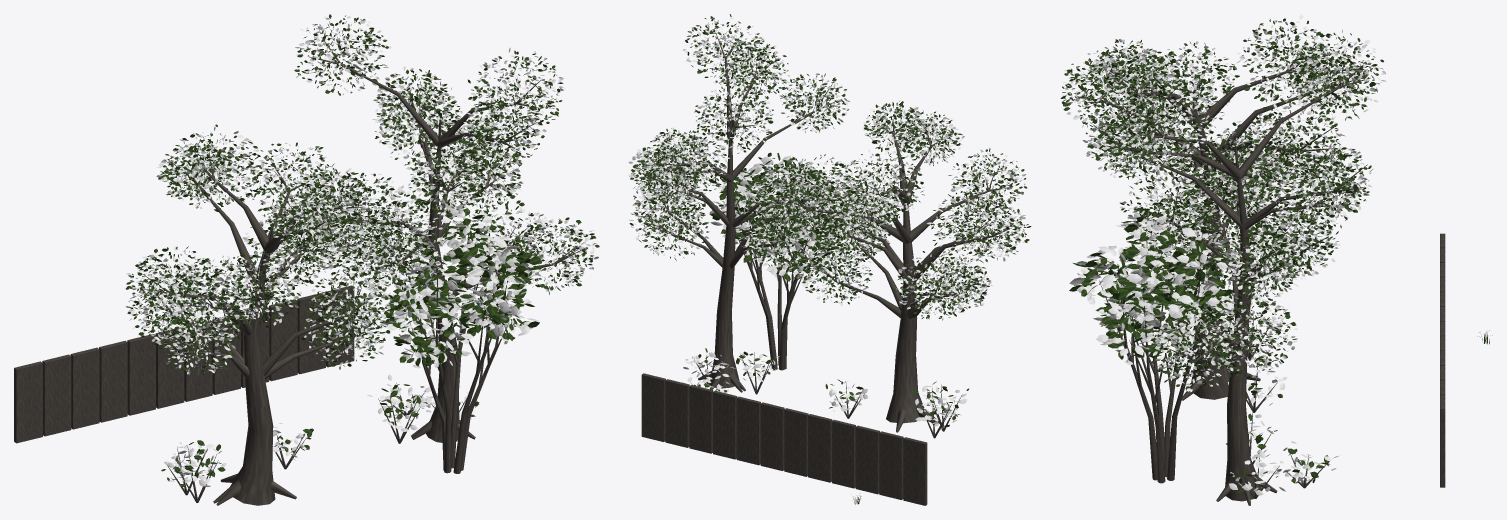
File: SM_Env_Tile_p1_p2.fbx
The picture shows the model from 3 angles, left to right: view 1: azimuth 30°, elevation 25°; view 2: azimuth 150°, elevation 25°; view 3: azimuth 270°, elevation 25°; orthographic projection. The views are drawn at different scales.
Parts seen in each view (by area): view 1: SM_Env_Tile_p1_p2; view 2: SM_Env_Tile_p1_p2; view 3: SM_Env_Tile_p1_p2.
Boxes of the visible parts, left/top/right/bottom form: SM_Env_Tile_p1_p2: left=14, top=14, right=599, bottom=505; SM_Env_Tile_p1_p2: left=628, top=14, right=1031, bottom=505; SM_Env_Tile_p1_p2: left=1060, top=14, right=1492, bottom=505.
Size of what is drawn, in the model's own units: 1639 by 1242 by 1364.
6 materials, 3 textured.
